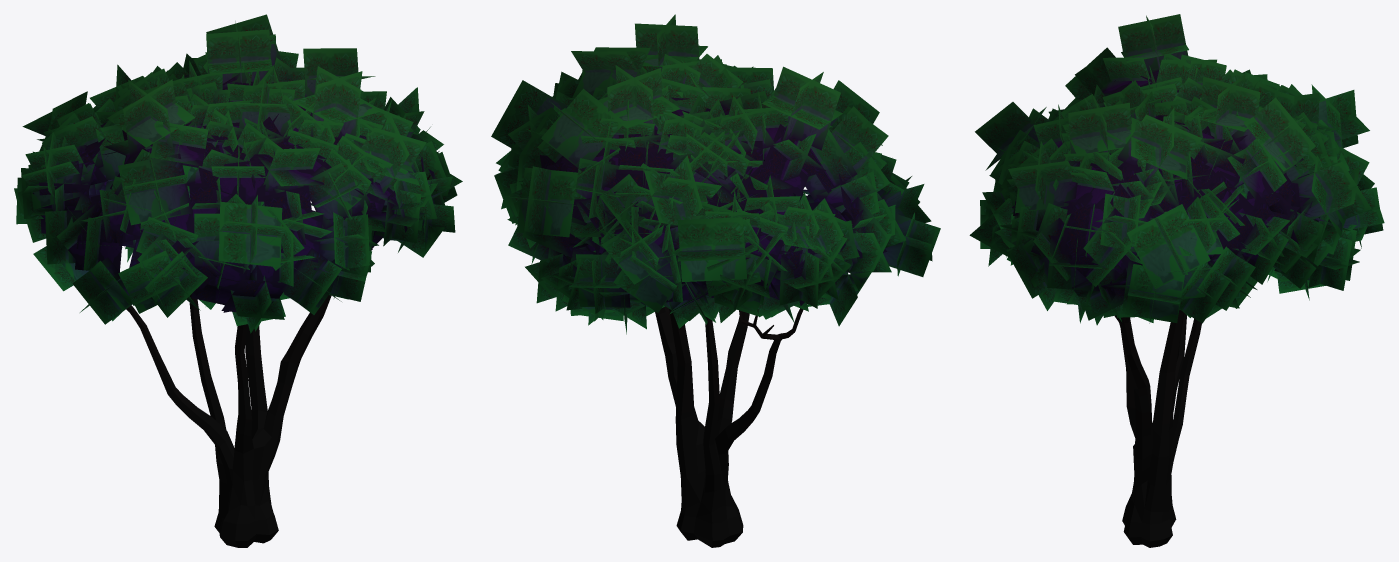
Rendered from SM_Env_Tree_Pohutukawa_03.gltf.
3 views of the same model, side by side, from view 1: azimuth 30°, elevation 25°; view 2: azimuth 150°, elevation 25°; view 3: azimuth 270°, elevation 25° (orthographic). The views are drawn at different scales.
Parts seen in each view (by area): view 1: SM_Env_Tree_Pohutukawa_03_LOD0; view 2: SM_Env_Tree_Pohutukawa_03_LOD0; view 3: SM_Env_Tree_Pohutukawa_03_LOD0.
Boxes of the visible parts, left/top/right/bottom form: SM_Env_Tree_Pohutukawa_03_LOD0: left=14, top=14, right=462, bottom=547; SM_Env_Tree_Pohutukawa_03_LOD0: left=491, top=14, right=940, bottom=547; SM_Env_Tree_Pohutukawa_03_LOD0: left=969, top=14, right=1384, bottom=547.
Size of what is drawn, in the model's own units: 4.2 by 4.89 by 3.87.
Materials: 1 (1 with a texture image).
